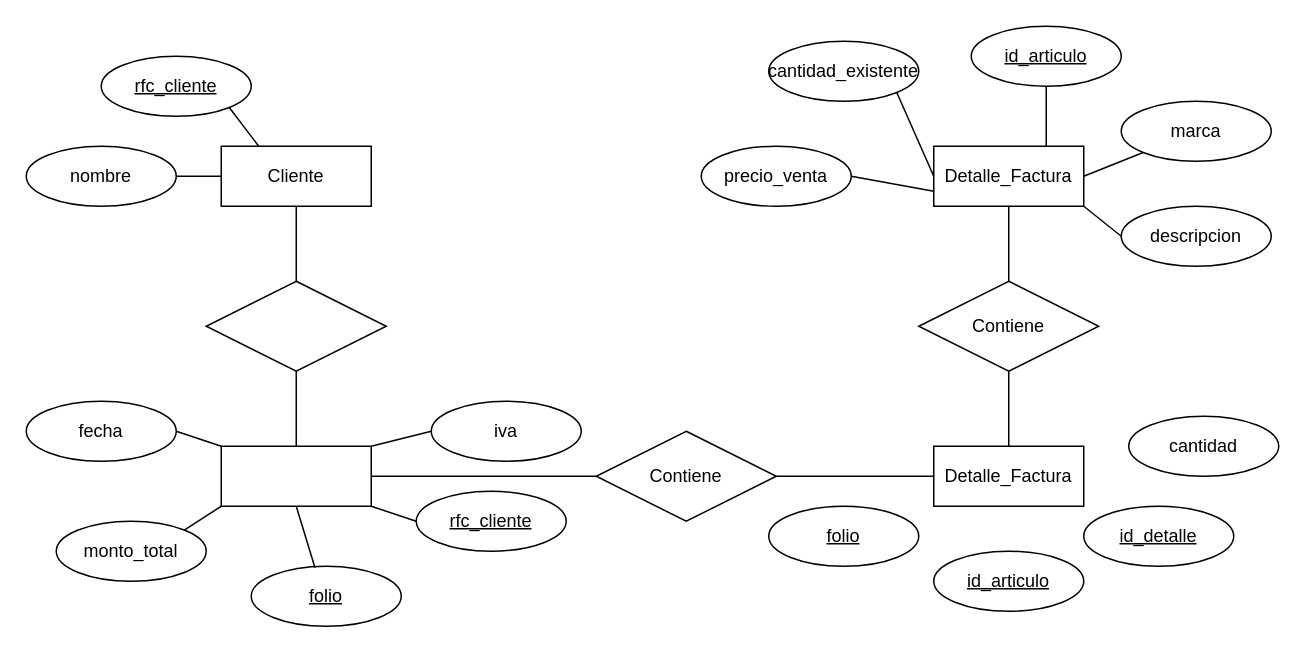
Some shapes in this 1305 by 653 pixel diagram are drawn without their labels. The shapes that lost their labels are listed below. From the top down, each one's box as (x1, y1, x2, y2) in pixels, then its label:
(205, 280, 386, 371): Genera
(220, 445, 371, 506): Factura
